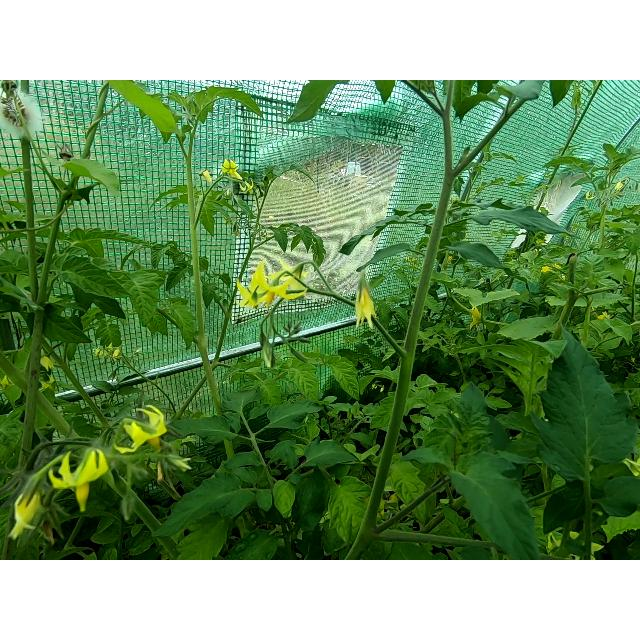Flowers: (47, 446, 109, 512), (234, 260, 312, 306), (118, 406, 176, 458), (349, 272, 378, 332), (9, 493, 43, 541), (92, 344, 128, 362), (222, 157, 242, 181), (36, 375, 56, 393), (38, 355, 58, 371), (470, 306, 482, 330), (238, 180, 256, 194), (596, 310, 614, 324), (198, 170, 214, 184), (0, 376, 12, 388), (615, 179, 627, 189), (584, 190, 594, 202), (541, 266, 551, 274)
